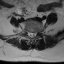CCS_normal: (30, 30, 33, 40)
LFS_stenosis: (36, 28, 39, 36)
LLS_normal: (33, 29, 36, 39)
RFS_normal: (25, 27, 27, 37)
RLS_normal: (27, 29, 30, 39)
